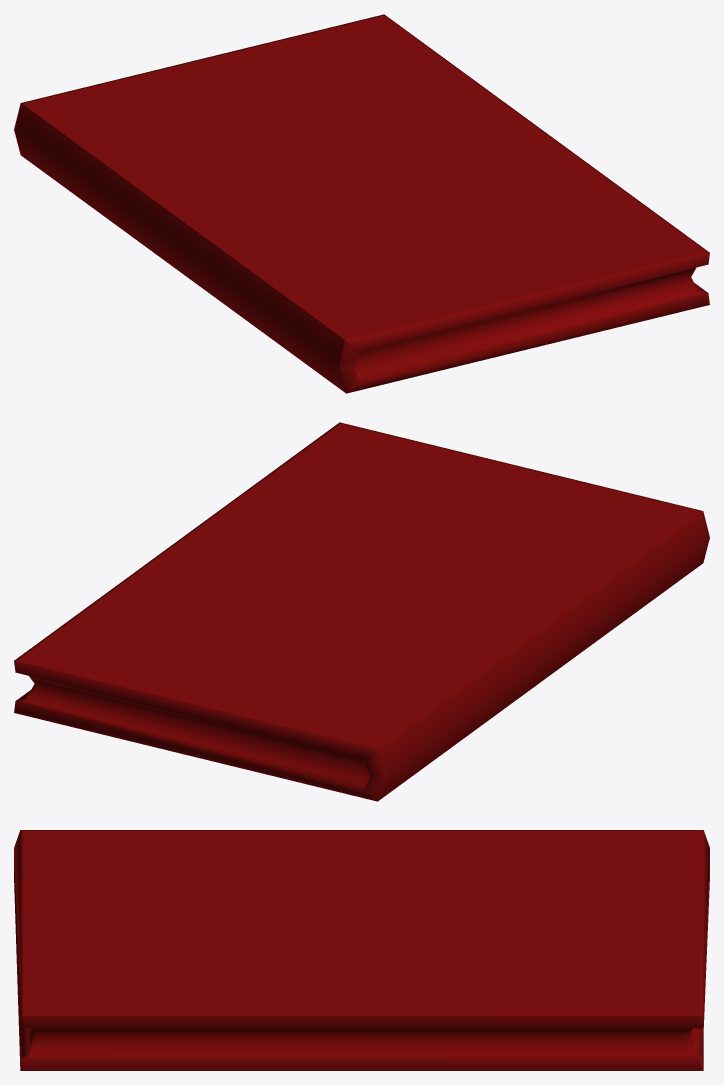
File: FirstAidBooklet.obj
3 renders of one model, top to bottom at view 1: azimuth 30°, elevation 25°; view 2: azimuth 150°, elevation 25°; view 3: azimuth 270°, elevation 25°, orthographic. The views are drawn at different scales.
Parts seen in each view (by area): view 1: pCube1; view 2: pCube1; view 3: pCube1.
Boxes of the visible parts, bbox=[...] form: pCube1: bbox=[14, 14, 709, 393]; pCube1: bbox=[14, 422, 709, 801]; pCube1: bbox=[14, 830, 709, 1070].
Size of the model in its own units: 12.53 by 1.69 by 19.44.
